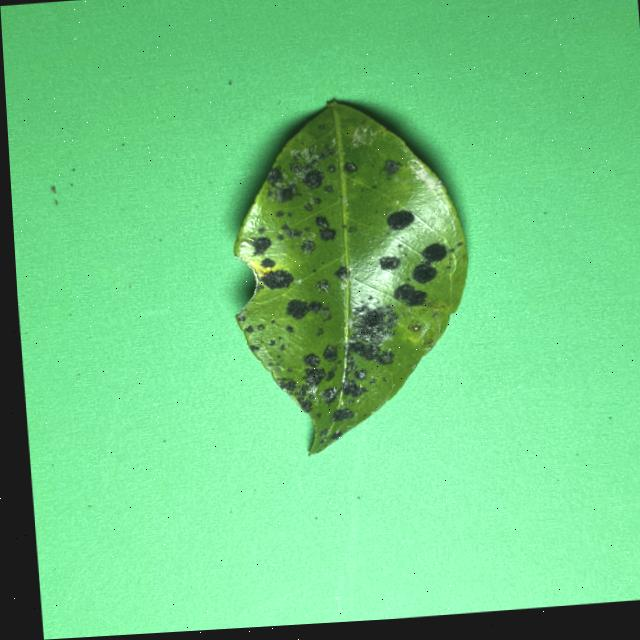sooty_mold: (234, 120, 467, 455)
